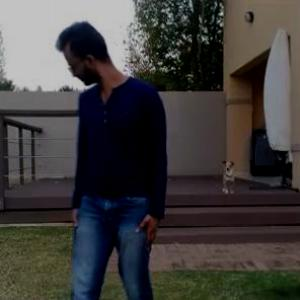follow: (134, 0, 299, 299), (52, 5, 164, 289)
